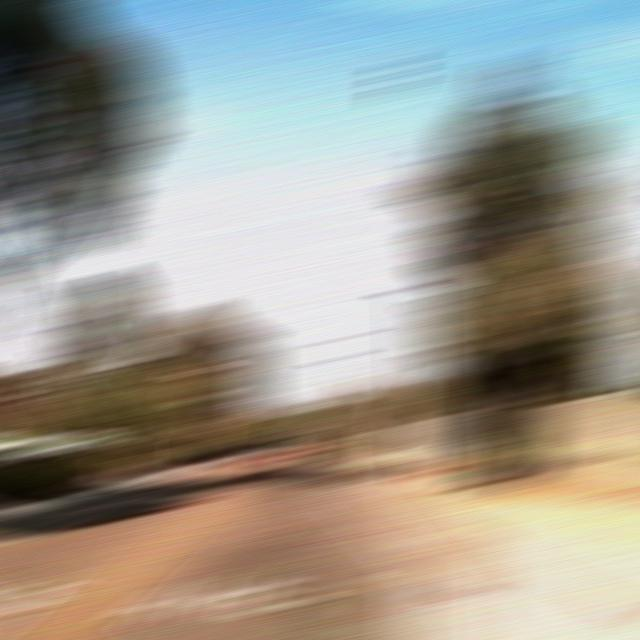stop: (330, 423, 360, 430)
